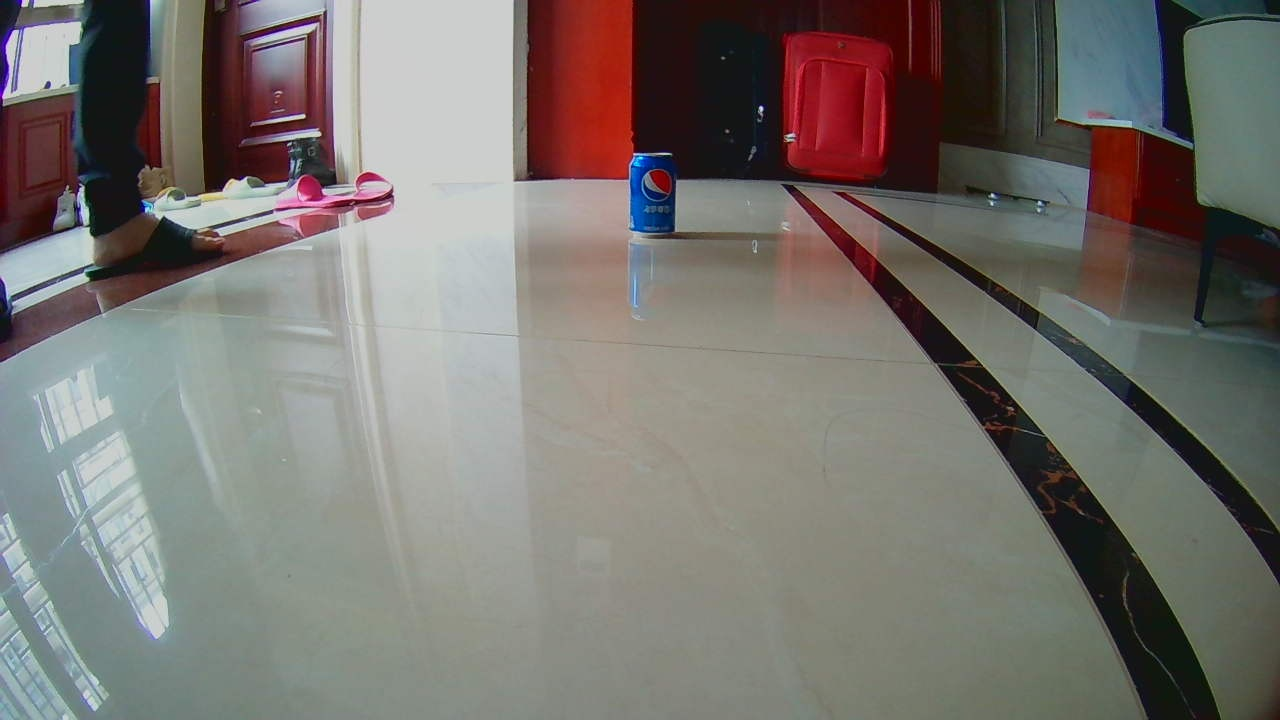pessi: (629, 154, 675, 241)
